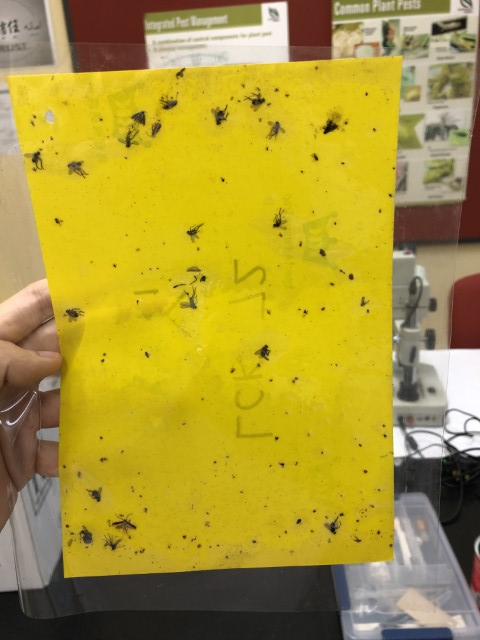DBM: (108, 511, 138, 536), (319, 117, 340, 137), (129, 109, 149, 128), (148, 119, 164, 138)
Other: (114, 125, 142, 151), (263, 118, 290, 143), (268, 206, 291, 235), (207, 101, 232, 127), (177, 286, 201, 313), (22, 149, 48, 173), (242, 89, 268, 113), (181, 221, 205, 247), (66, 158, 90, 182), (158, 92, 180, 113), (252, 341, 273, 363), (101, 533, 124, 553), (85, 485, 104, 505), (324, 515, 342, 536), (79, 525, 96, 547), (64, 306, 86, 322), (356, 295, 371, 309), (174, 67, 189, 81), (351, 533, 363, 544)
